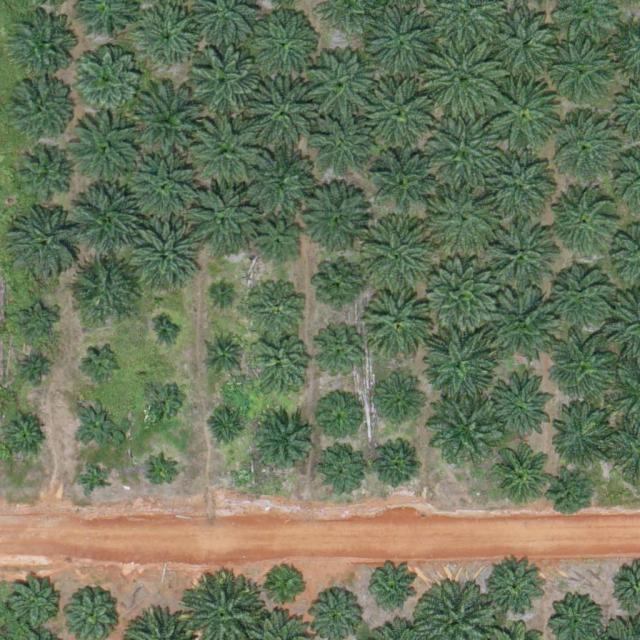Healthy: (133, 84, 211, 163), (6, 205, 84, 284), (424, 38, 502, 116), (129, 151, 200, 222), (545, 35, 616, 106), (309, 49, 380, 120), (549, 112, 619, 183), (492, 81, 562, 152), (485, 147, 556, 217), (484, 220, 554, 291), (489, 285, 559, 356), (426, 257, 496, 328), (424, 329, 494, 400), (429, 392, 500, 462), (360, 287, 431, 357), (249, 79, 319, 150), (240, 142, 310, 213), (193, 116, 263, 187), (186, 180, 256, 251), (128, 219, 198, 290), (73, 117, 143, 188), (366, 6, 436, 77), (365, 76, 435, 147), (190, 47, 260, 118), (72, 45, 142, 116), (7, 15, 77, 86), (548, 328, 618, 398), (487, 377, 557, 447), (429, 115, 499, 185), (427, 183, 497, 253), (362, 218, 432, 288), (300, 187, 370, 257), (74, 183, 144, 253), (68, 255, 138, 325), (492, 10, 562, 80), (485, 558, 548, 621), (557, 187, 619, 250), (551, 264, 613, 327), (552, 403, 614, 466), (371, 154, 433, 217), (252, 411, 314, 474), (254, 15, 316, 78), (11, 76, 73, 139), (139, 7, 201, 69), (492, 447, 547, 502), (314, 121, 369, 176), (249, 281, 304, 336), (254, 339, 309, 394), (18, 149, 73, 204), (8, 577, 62, 632), (370, 373, 424, 428), (317, 333, 364, 381), (319, 447, 366, 495), (375, 445, 422, 492), (252, 220, 299, 267)
Small: (365, 563, 420, 618), (316, 262, 363, 309), (2, 412, 49, 459), (74, 401, 121, 448), (317, 399, 357, 439), (207, 410, 247, 450), (142, 382, 181, 422), (551, 472, 590, 512), (19, 303, 58, 342), (84, 346, 123, 385), (268, 565, 307, 604), (146, 459, 177, 491), (23, 352, 54, 384), (79, 464, 110, 496), (210, 339, 241, 370), (214, 283, 238, 307), (155, 322, 178, 346)
